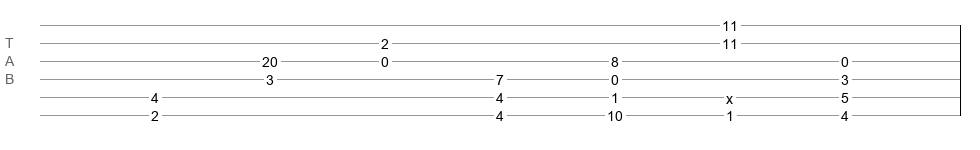0: (381, 54, 389, 64), (611, 72, 619, 82), (841, 54, 849, 64)
1: (611, 90, 619, 100), (726, 108, 734, 118)
10: (607, 108, 623, 118)
11: (722, 36, 738, 46), (722, 18, 738, 28)
2: (151, 108, 159, 118), (381, 36, 389, 46)
20: (262, 54, 278, 64)
3: (266, 72, 274, 82), (841, 72, 849, 82)
4: (151, 90, 159, 100), (496, 90, 504, 100), (496, 108, 504, 118), (841, 108, 849, 118)
5: (841, 90, 849, 100)
7: (496, 72, 504, 82)
8: (611, 54, 619, 64)
x: (726, 91, 733, 99)
